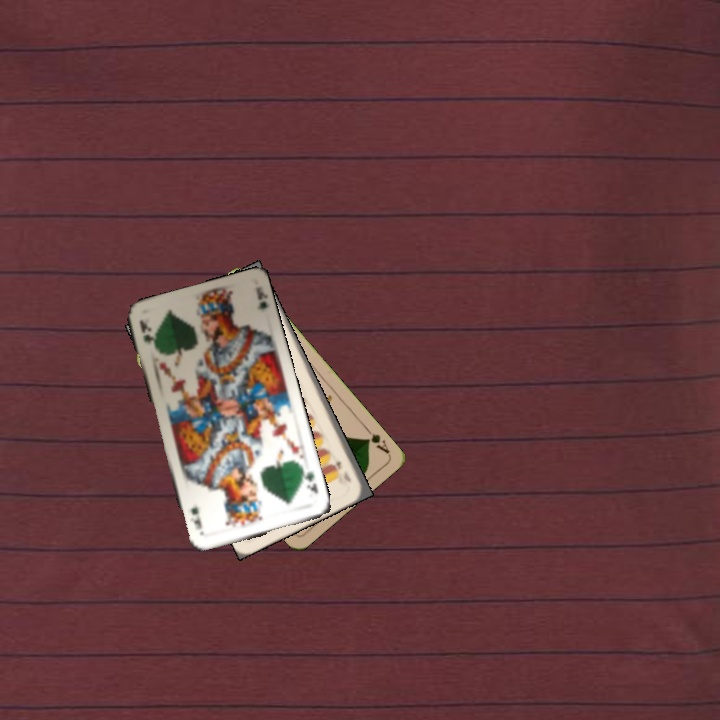E10: (332, 457, 354, 485)
GA: (361, 423, 393, 457)
GK: (135, 316, 158, 353), (298, 465, 320, 496)
